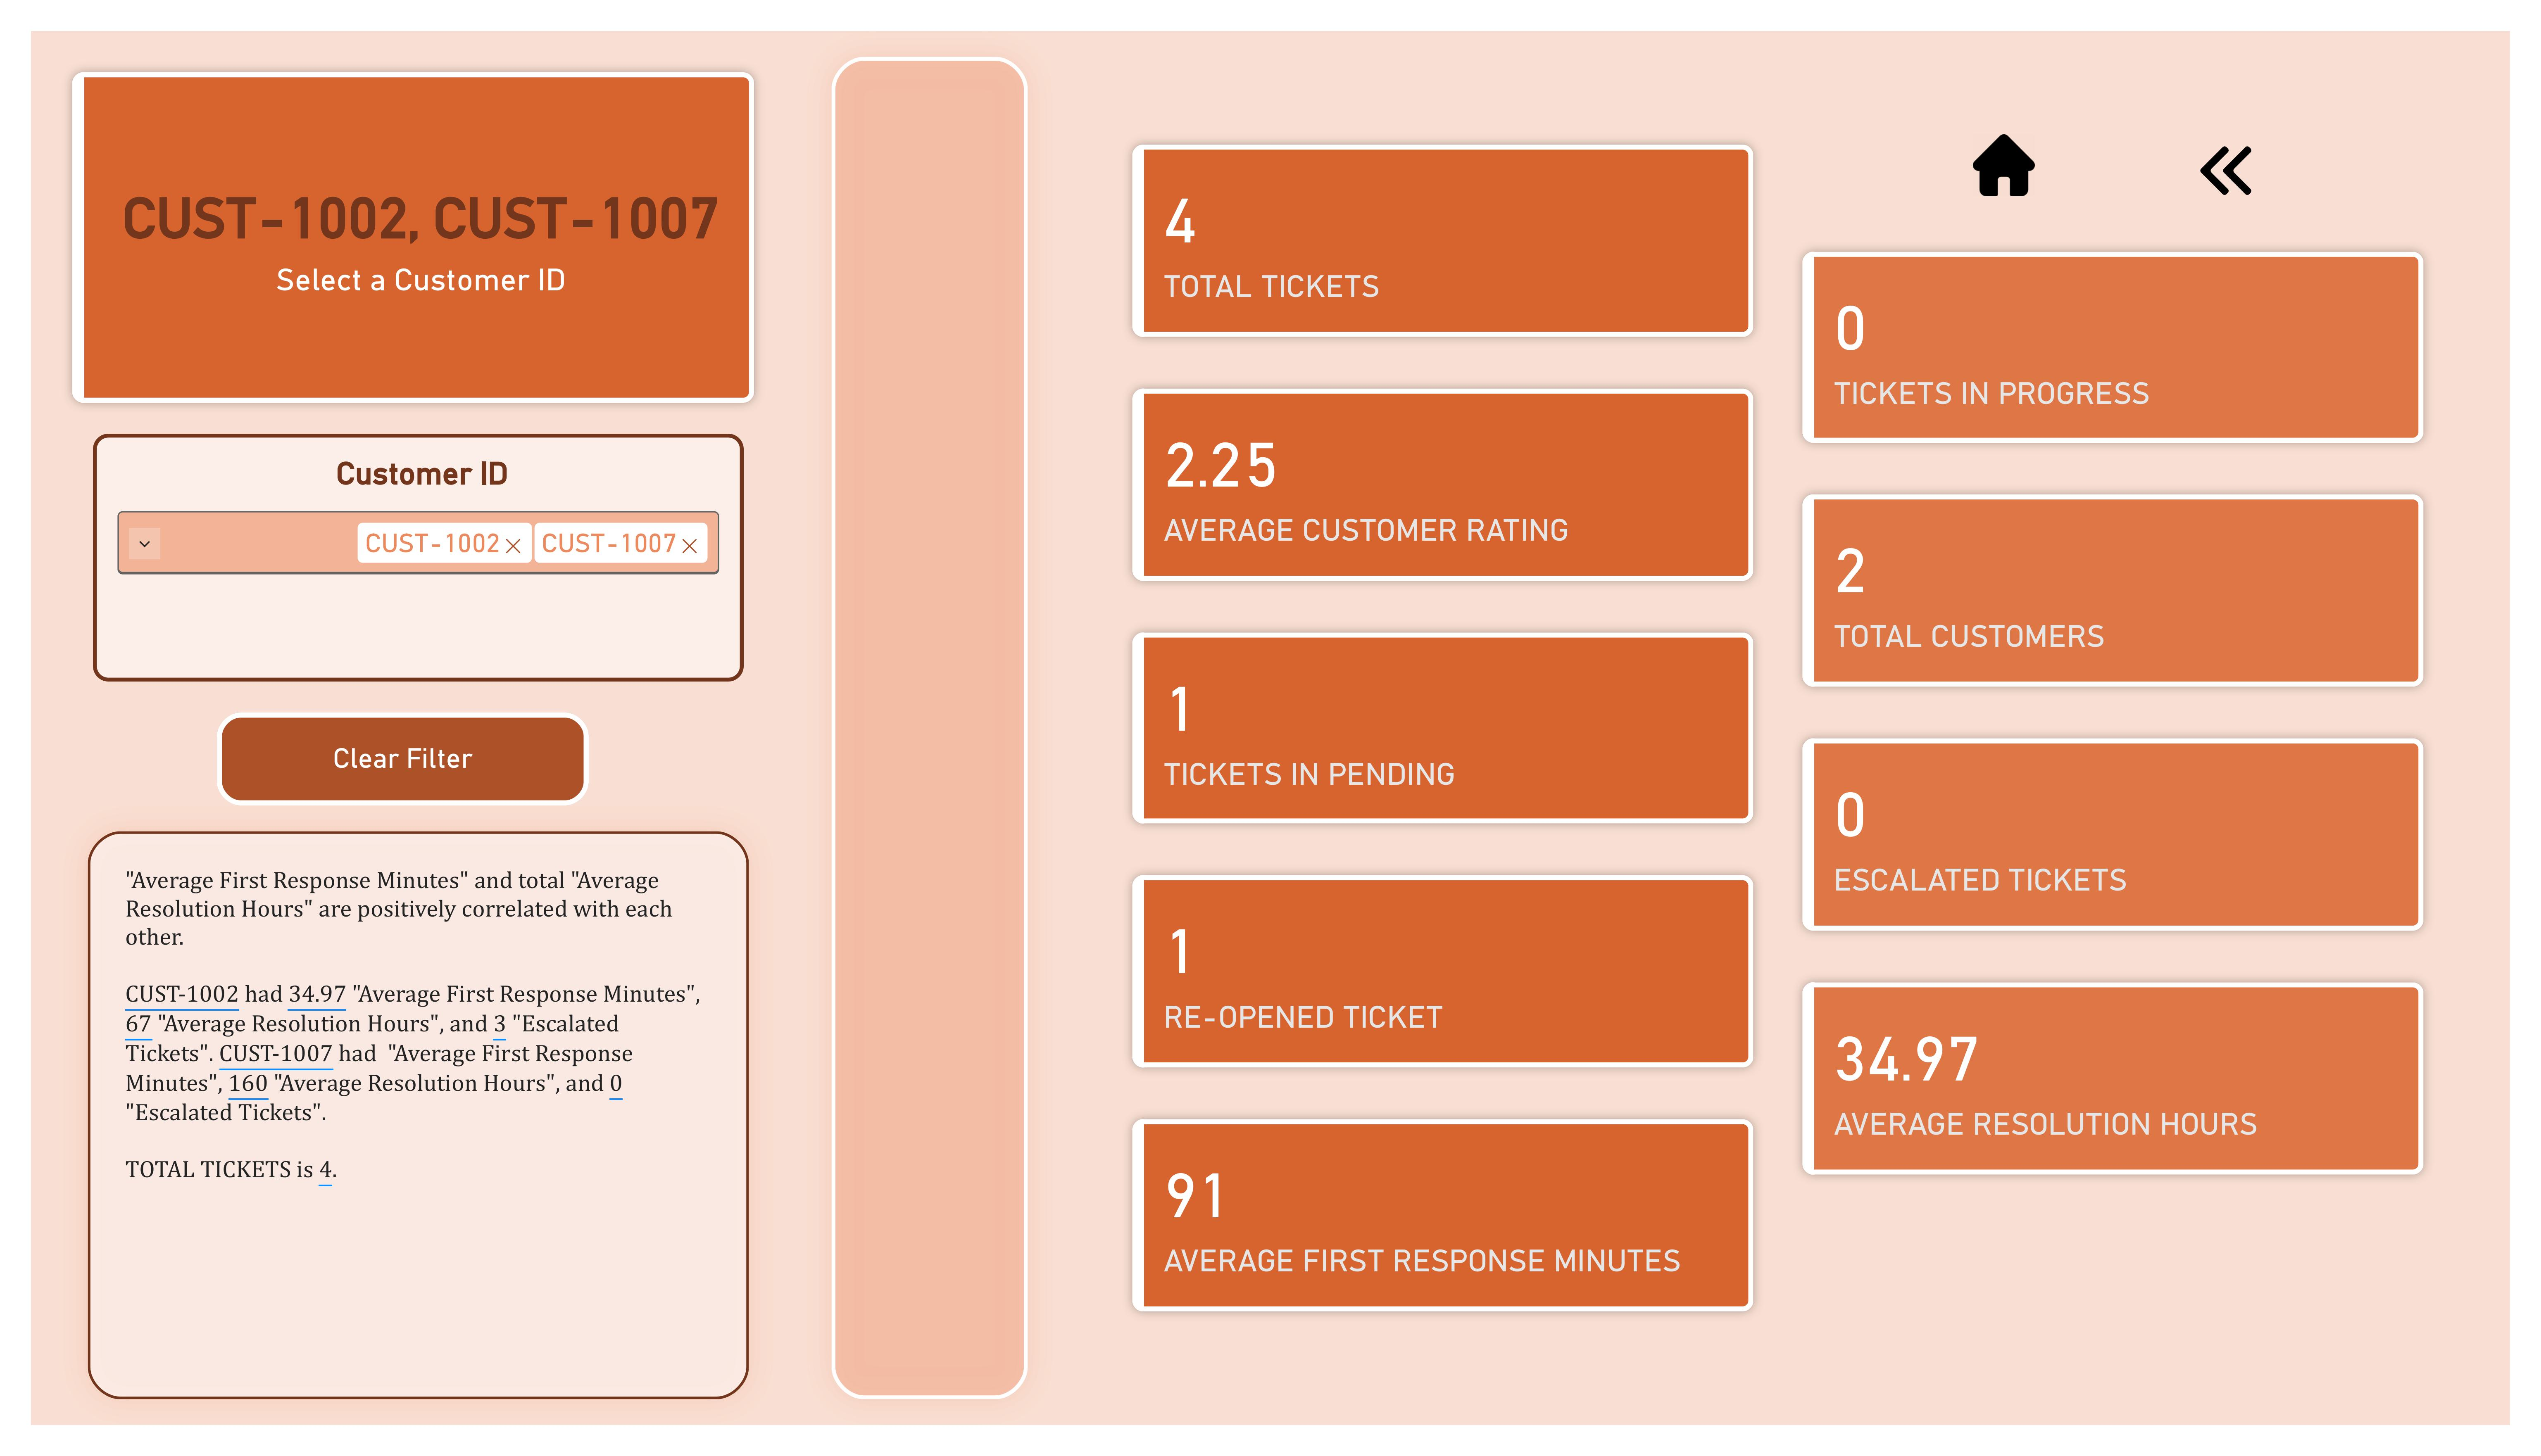

What the dashboard file says about the page in this screenshot:
{"tool":"powerbi","page":{"name":"Customer Issues","canvas":[1920,1080],"ordinal":4},"visuals":[{"type":"actionButton","box":[144,528,288,72],"z":0},{"type":"cardVisual","fields":{"Data":["_measure.TOTAL TICKETS"]},"box":[837.3,72,512.6,180.9],"z":1000,"group":"g1"},{"type":"image","box":[1504,80,48,48],"z":1000,"group":"g3"},{"type":"listSlicer","title":"Customer ID","fields":{"Values":["Customer_Support_Tickets.Customer_ID"]},"box":[48,312,504,192],"z":1000},{"type":"cardVisual","fields":{"Data":["_measure.Selected_Customer"]},"box":[16,16,560,288],"z":2000},{"type":"cardVisual","fields":{"Data":["_measure.TICKETS IN PROGRESS"]},"box":[1356.7,154.6,512.6,180.9],"z":2000,"group":"g1"},{"type":"shape","box":[600,0,192,1080],"z":3000},{"type":"cardVisual","fields":{"Data":["_measure.PENDING CUSTOMERS"]},"box":[837.3,449.5,512.6,180.9],"z":3000,"group":"g1"},{"type":"shape","box":[24,600,552,480],"z":3000,"group":"g2"},{"type":"group","id":"g1","title":"Group 1","box":[837.3,72,1032,936],"z":4000},{"type":"image","box":[1664,84,72,48],"z":4000,"group":"g4"},{"type":"cardVisual","fields":{"Data":["_measure.ESCALATED TICKETS"]},"box":[1356.7,532.1,512.6,180.9],"z":4000,"group":"g1"},{"type":"group","id":"g2","title":"Group 2","box":[24,600,552,480],"z":5000},{"type":"cardVisual","fields":{"Data":["_measure.AVERAGE 1st RESPONSE MINUTES"]},"box":[837.3,827.1,512.6,180.9],"z":5000,"group":"g1"},{"type":"group","id":"g3","title":"Group 2","box":[1504,80,224,48],"z":6000},{"type":"cardVisual","fields":{"Data":["_measure.AVERAGE RESOLUTION HOURS"]},"box":[1356.7,720.9,512.6,180.9],"z":6000,"group":"g1"},{"type":"cardVisual","fields":{"Data":["_measure.AVERAGE CUSTOMER RATING"]},"box":[837.3,260.8,512.6,180.9],"z":7000,"group":"g1"},{"type":"textbox","box":[72.7,648,454.6,400],"z":7003,"group":"g2"},{"type":"cardVisual","fields":{"Data":["_measure.RE-OPENED TICKET"]},"box":[837.3,638.3,512.6,180.9],"z":8000,"group":"g1"},{"type":"cardVisual","fields":{"Data":["_measure.TOTAL CUSTOMERS"]},"box":[1356.7,343.4,512.6,180.9],"z":9000,"group":"g1"},{"type":"group","id":"g4","title":"Group 1","box":[1664,84,72,48],"z":23001,"group":"g3"}]}

Visuals, with their boxes on the page's 1920x1080 design canvas (x1, y1, x2, y2). These are canvas units, not pixel positions in the 2541x1456 screenshot, which may show the page scaled, cropped or inside an application window:
actionButton: {"x1": 144, "y1": 528, "x2": 432, "y2": 600}
cardVisual - _measure.TOTAL TICKETS: {"x1": 837, "y1": 72, "x2": 1350, "y2": 253}
image: {"x1": 1504, "y1": 80, "x2": 1552, "y2": 128}
"Customer ID" listSlicer: {"x1": 48, "y1": 312, "x2": 552, "y2": 504}
cardVisual - _measure.Selected_Customer: {"x1": 16, "y1": 16, "x2": 576, "y2": 304}
cardVisual - _measure.TICKETS IN PROGRESS: {"x1": 1357, "y1": 155, "x2": 1869, "y2": 336}
shape: {"x1": 600, "y1": 0, "x2": 792, "y2": 1080}
cardVisual - _measure.PENDING CUSTOMERS: {"x1": 837, "y1": 450, "x2": 1350, "y2": 630}
shape: {"x1": 24, "y1": 600, "x2": 576, "y2": 1080}
"Group 1" group: {"x1": 837, "y1": 72, "x2": 1869, "y2": 1008}
image: {"x1": 1664, "y1": 84, "x2": 1736, "y2": 132}
cardVisual - _measure.ESCALATED TICKETS: {"x1": 1357, "y1": 532, "x2": 1869, "y2": 713}
"Group 2" group: {"x1": 24, "y1": 600, "x2": 576, "y2": 1080}
cardVisual - _measure.AVERAGE 1st RESPONSE MINUTES: {"x1": 837, "y1": 827, "x2": 1350, "y2": 1008}
"Group 2" group: {"x1": 1504, "y1": 80, "x2": 1728, "y2": 128}
cardVisual - _measure.AVERAGE RESOLUTION HOURS: {"x1": 1357, "y1": 721, "x2": 1869, "y2": 902}
cardVisual - _measure.AVERAGE CUSTOMER RATING: {"x1": 837, "y1": 261, "x2": 1350, "y2": 442}
textbox: {"x1": 73, "y1": 648, "x2": 527, "y2": 1048}
cardVisual - _measure.RE-OPENED TICKET: {"x1": 837, "y1": 638, "x2": 1350, "y2": 819}
cardVisual - _measure.TOTAL CUSTOMERS: {"x1": 1357, "y1": 343, "x2": 1869, "y2": 524}
"Group 1" group: {"x1": 1664, "y1": 84, "x2": 1736, "y2": 132}
